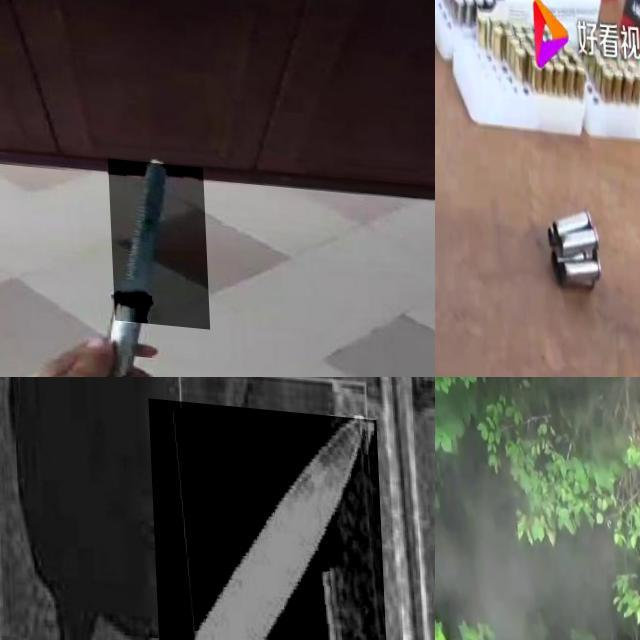-: (146, 391, 386, 640), (106, 153, 206, 322)
gun-knife-thesis - v11 Yolov5 augmented: (435, 76, 606, 377), (435, 511, 602, 640)
